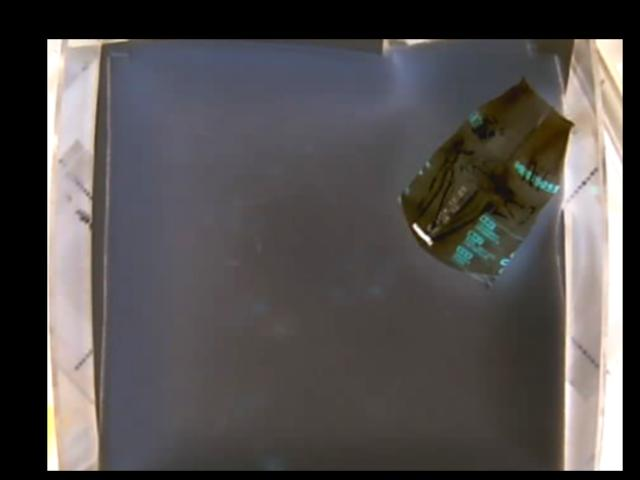Bottle: (399, 80, 575, 283)
